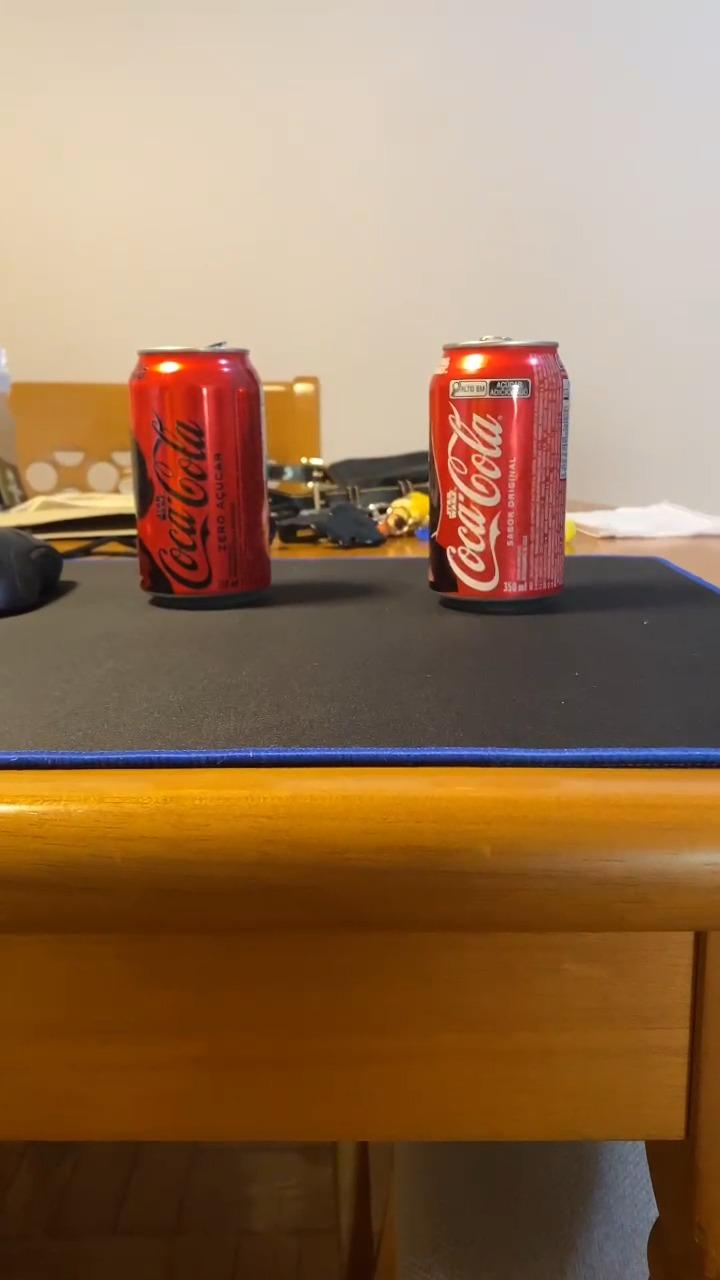coke: (425, 337, 569, 607), (126, 345, 272, 605)
